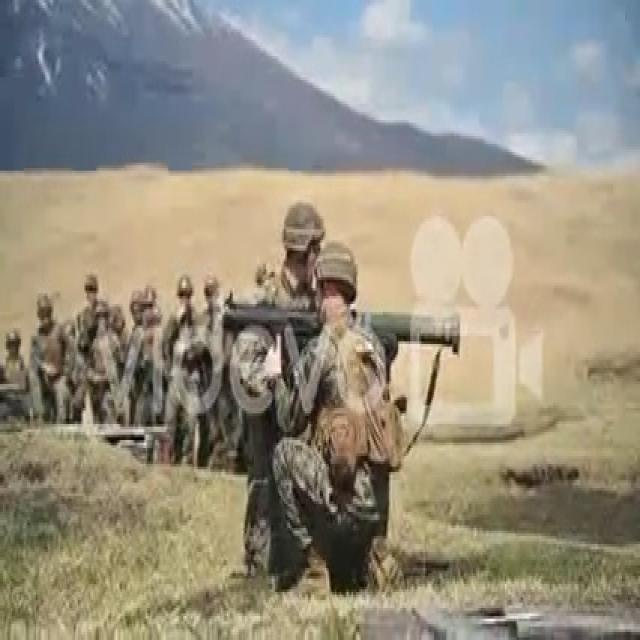bazooka: (222, 293, 469, 362)
